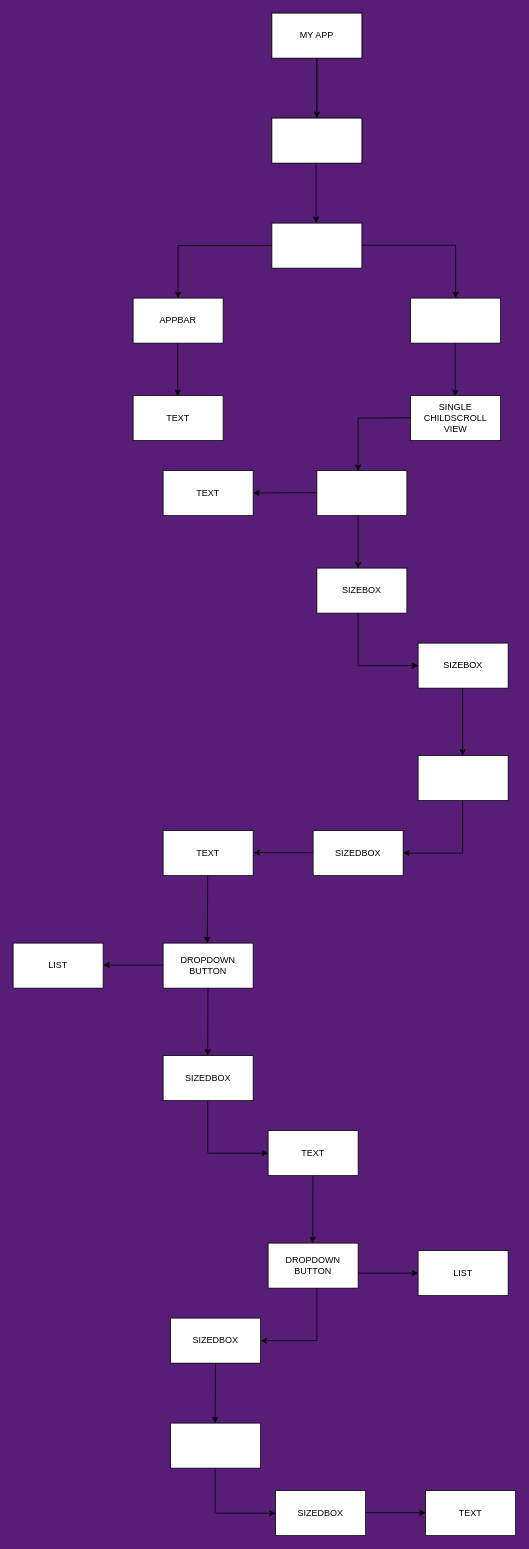
This 529x1549 diagram has some shape labels left out. The box of each missing label's shape, as (x1, y1, x2, y2) in pixels:
COLUMN: (316, 470, 407, 516)
CONTAINER: (410, 297, 501, 343)
ELEVATED BUTTON: (170, 1422, 261, 1468)
MATERIAL APP: (271, 117, 362, 163)
SCAFFOLD: (271, 222, 362, 268)
TEXTFIELD: (417, 755, 508, 801)
